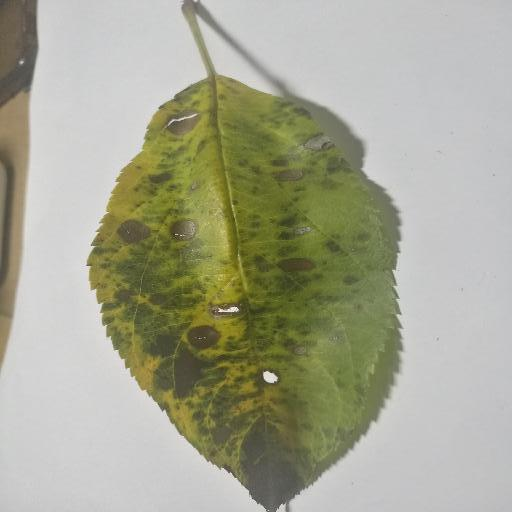Brown_Spot: (172, 352, 210, 394), (163, 109, 197, 144), (112, 219, 149, 242), (257, 362, 289, 386), (187, 325, 221, 347), (212, 296, 243, 320), (277, 162, 311, 180), (269, 260, 317, 272), (305, 132, 335, 148), (173, 221, 196, 239)
